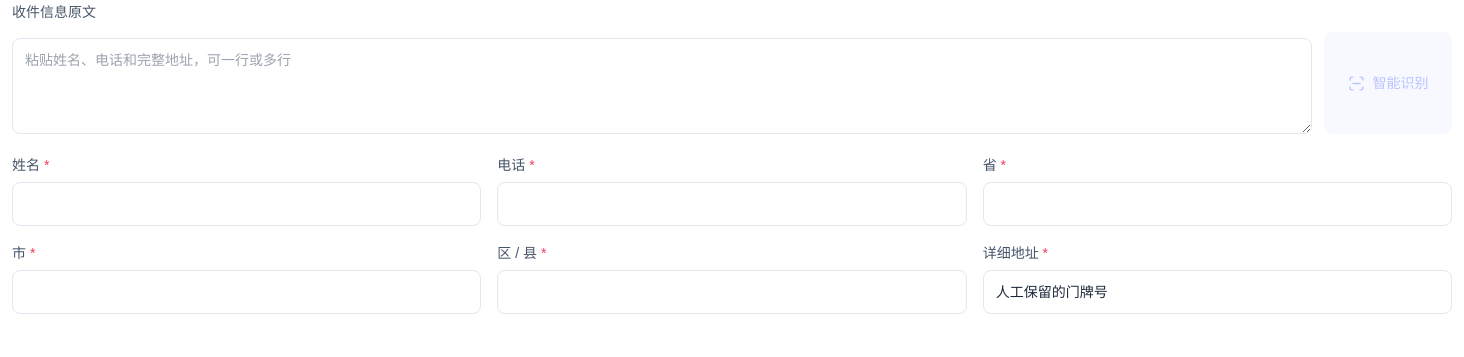
Test: RecipientRecognitionCard › lets the user re-recognize edited raw text without clearing the populated fields
The width and height of the screenshot is (1464, 357).
Type "收件人：王先生 电话：13900001086" into the text box with test id "recipient-raw" at x=662, y=86, box [12, 38, 1312, 134]
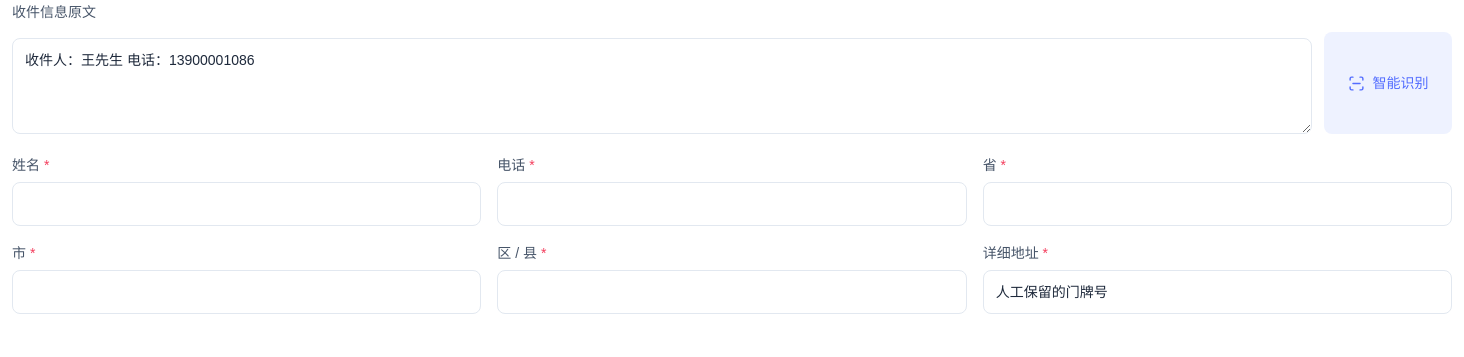
Click the button with test id "recipient-recognize" at x=1388, y=83, box [1324, 32, 1452, 134]
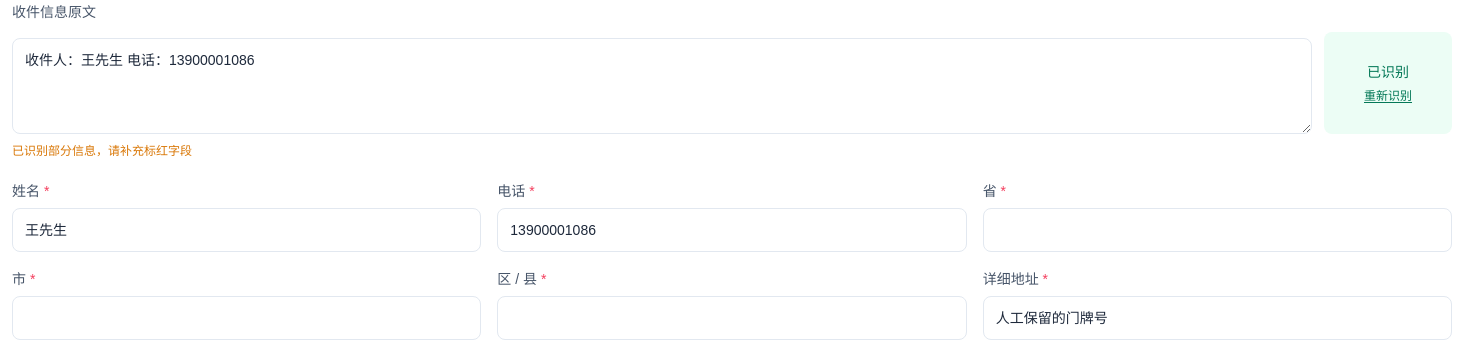
Result: the text with test id "recipient-recognized" reads "已识别" at [1367, 64, 1409, 80]
Click the button with test id "recipient-recognize-again" at x=1388, y=96, box [1364, 87, 1412, 105]
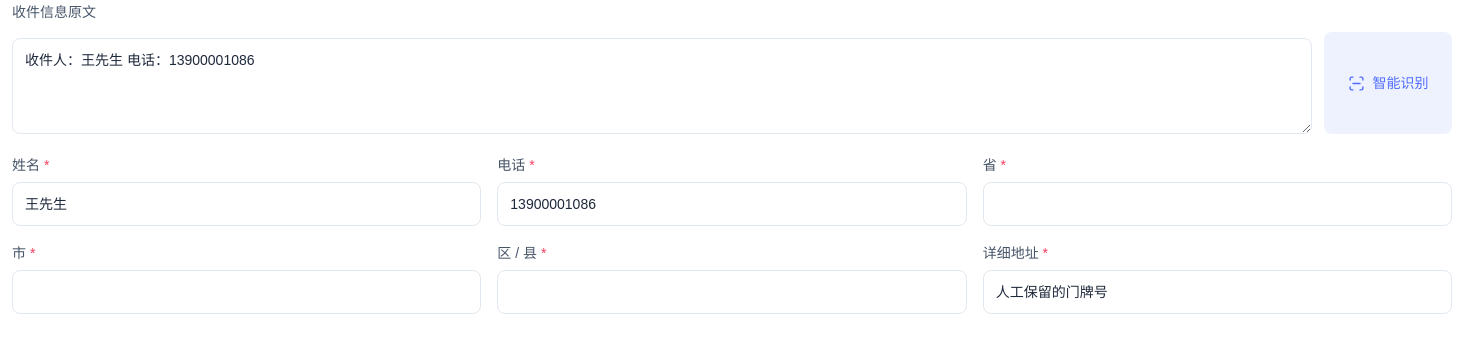
Result: the field with test id "recipient-name" holds "王先生" at [12, 182, 481, 226]
Replace the text in the text box with test id "recipient-raw" with "收件人：李女士 电话：13800006028" at x=662, y=86, box [12, 38, 1312, 134]
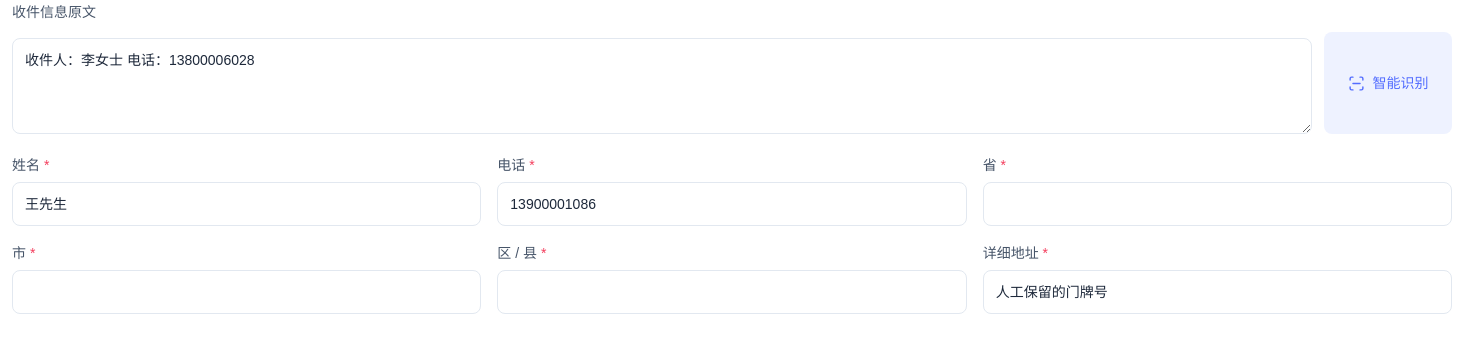
Click the button with test id "recipient-recognize" at x=1388, y=83, box [1324, 32, 1452, 134]
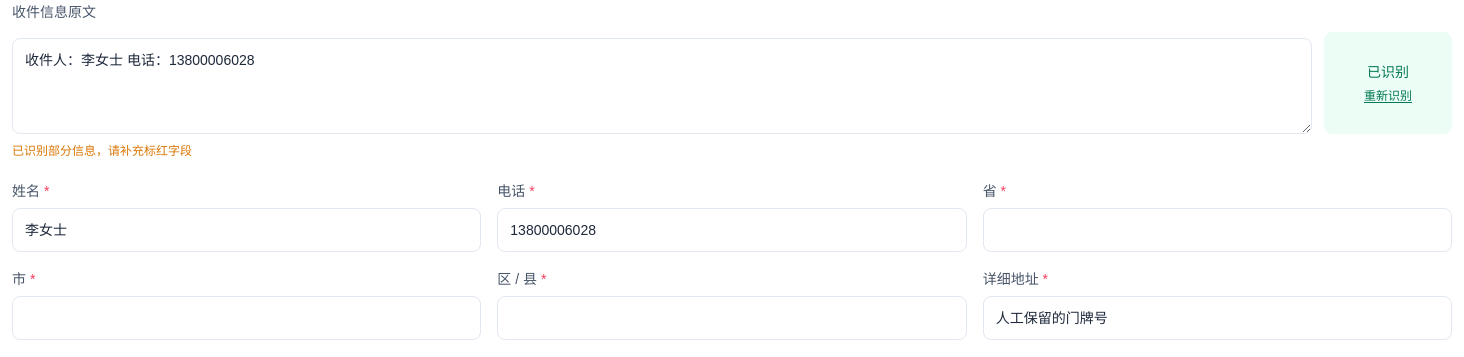
Result: the field with test id "recipient-name" holds "李女士" at [12, 208, 481, 252]
